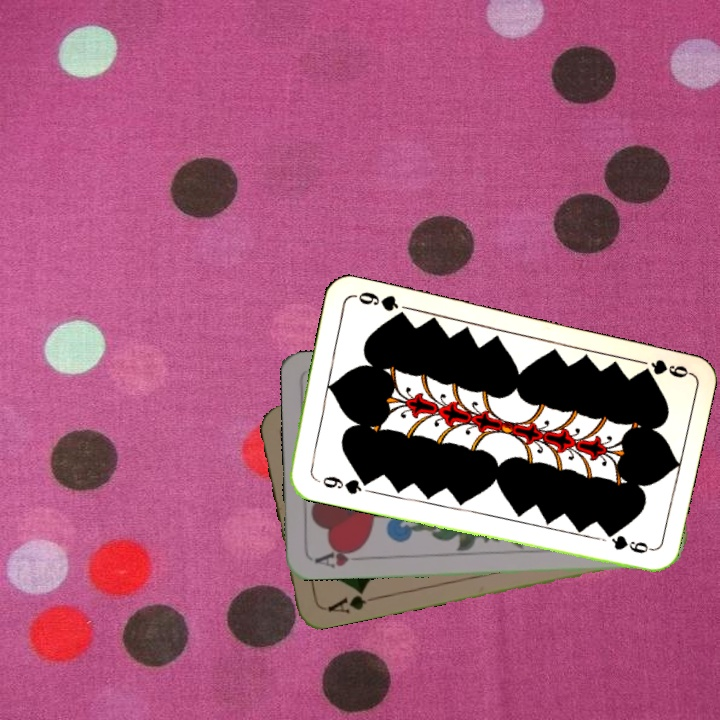G9: (310, 472, 370, 497), (638, 355, 691, 381)
GA: (323, 584, 369, 616)
HA: (311, 543, 369, 571)
